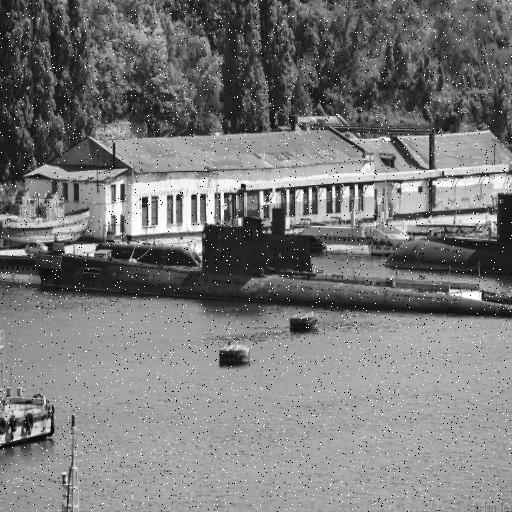submarine: (32, 205, 512, 320)
